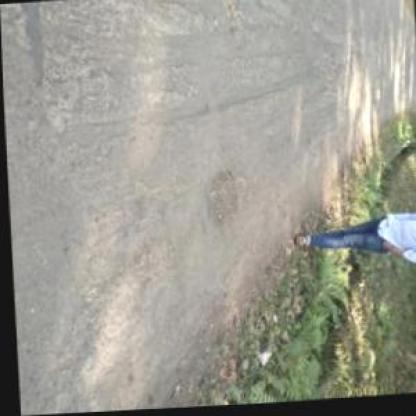pothole: (202, 169, 238, 232)
